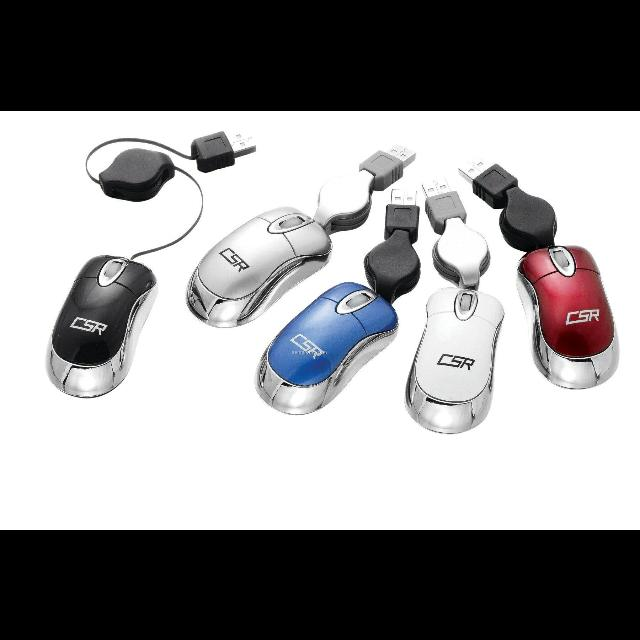Computer-Mouse: (46, 254, 159, 400), (516, 245, 618, 389)
